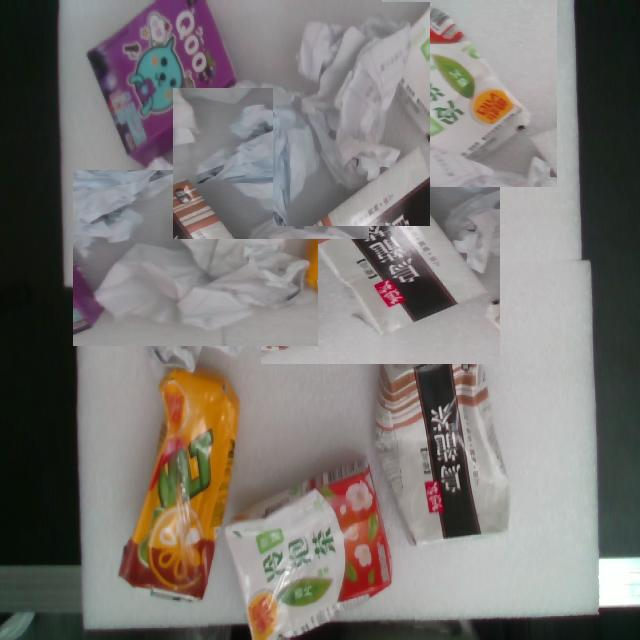juicebox: (261, 121, 501, 384), (178, 440, 441, 640), (336, 319, 536, 575), (100, 349, 255, 616), (339, 0, 557, 188)
paper: (74, 146, 319, 347), (264, 0, 441, 236), (173, 88, 369, 239)
